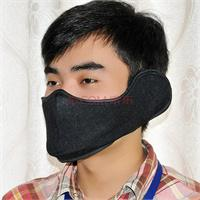OK: (42, 47, 126, 161)
